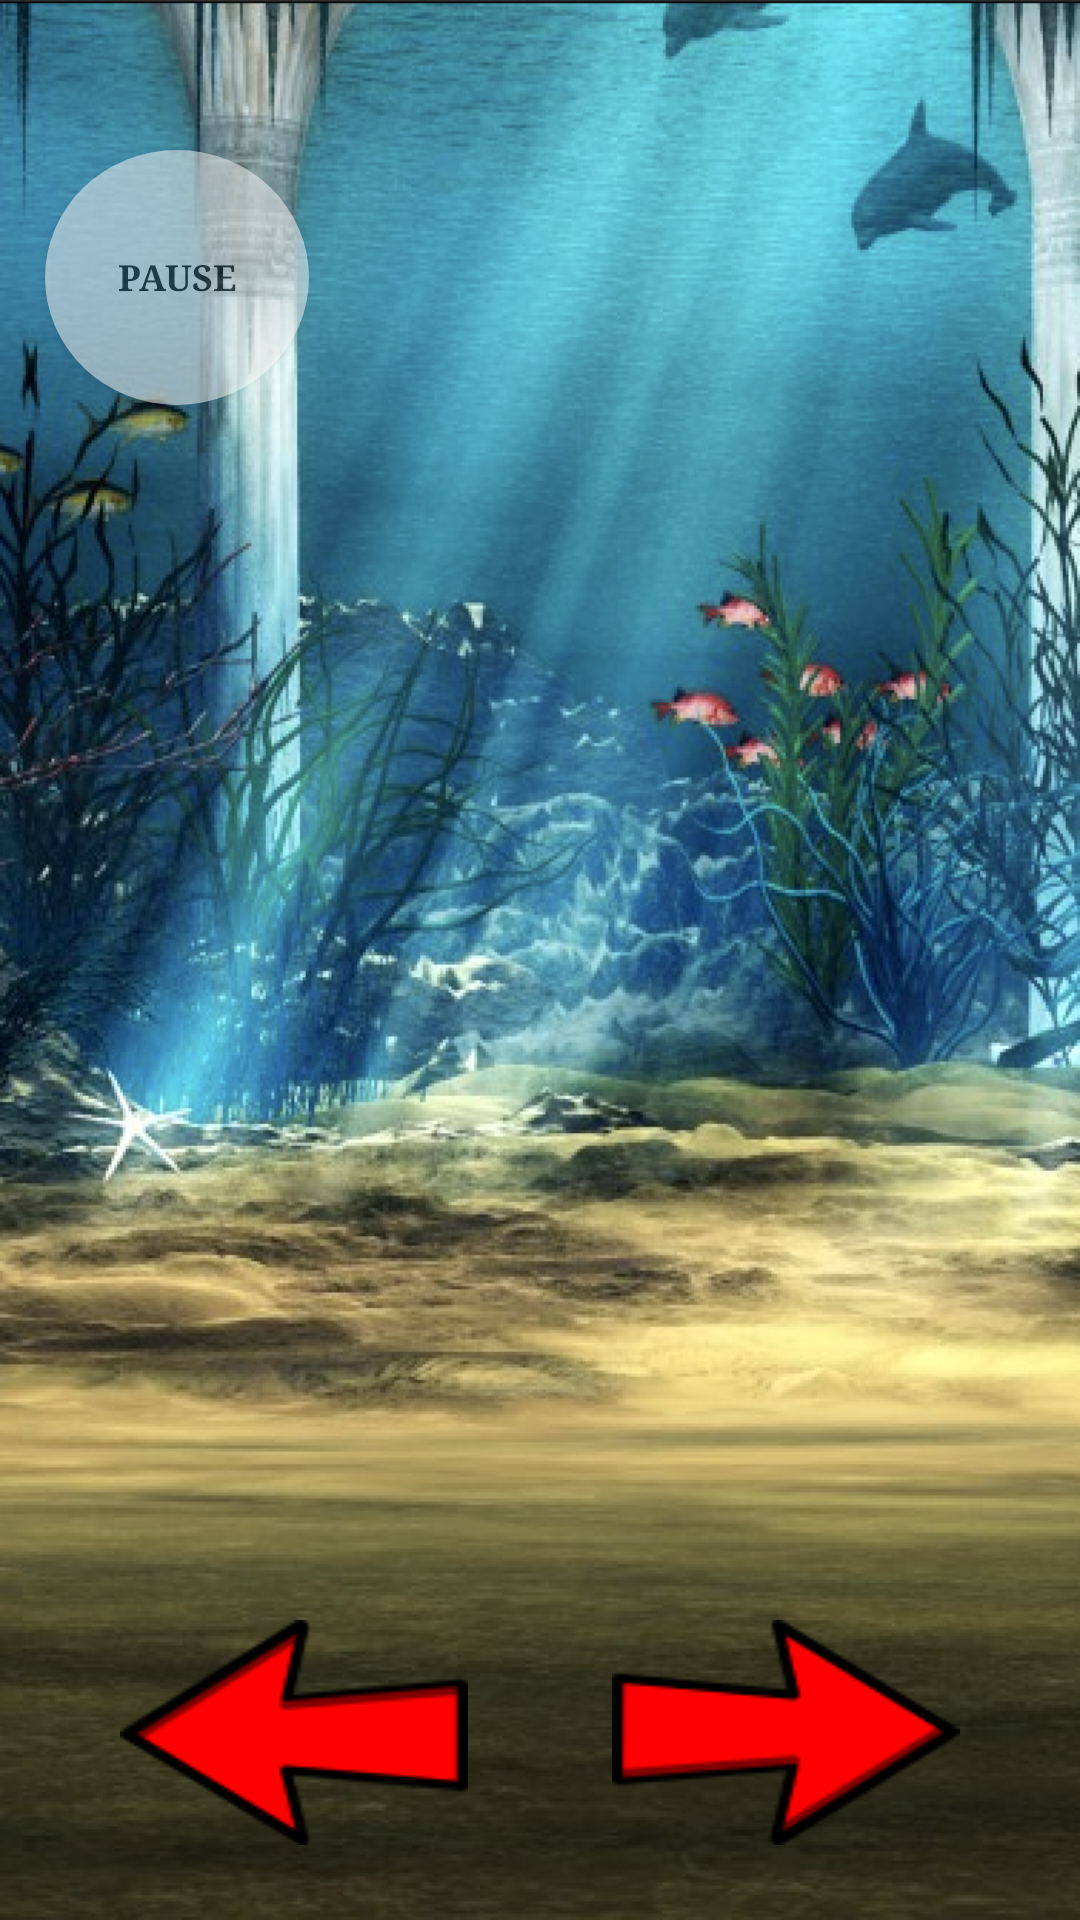

Named icons in this screenshot (1080x1920) and their centers, [x,y]:
leftarrow: [294,1732]
rightarrow: [786,1732]
